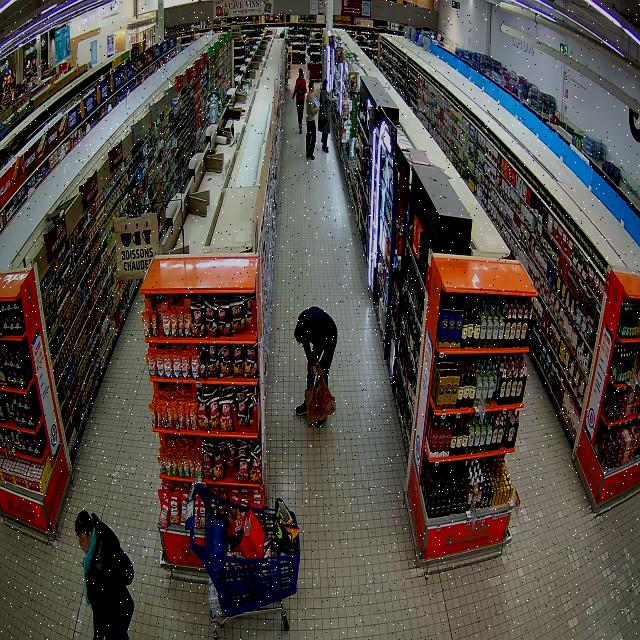hands: (314, 364, 322, 375), (307, 361, 312, 373)
person: (74, 510, 134, 640), (294, 307, 338, 388), (318, 80, 332, 153), (306, 82, 319, 159), (296, 399, 307, 416)
